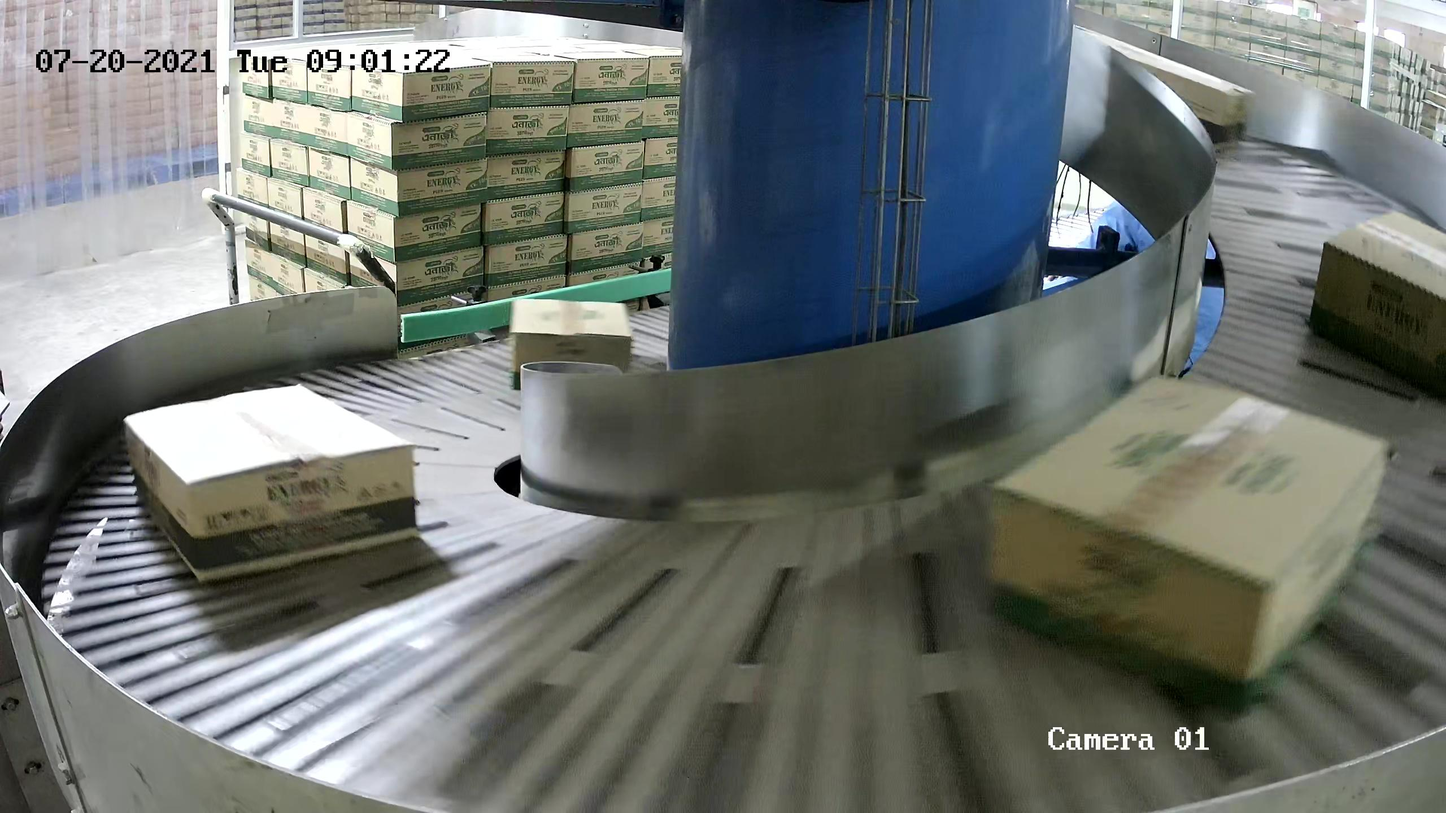Box: (981, 369, 1395, 719), (121, 380, 422, 584), (1307, 209, 1446, 406), (1073, 23, 1255, 147), (508, 297, 633, 392)
